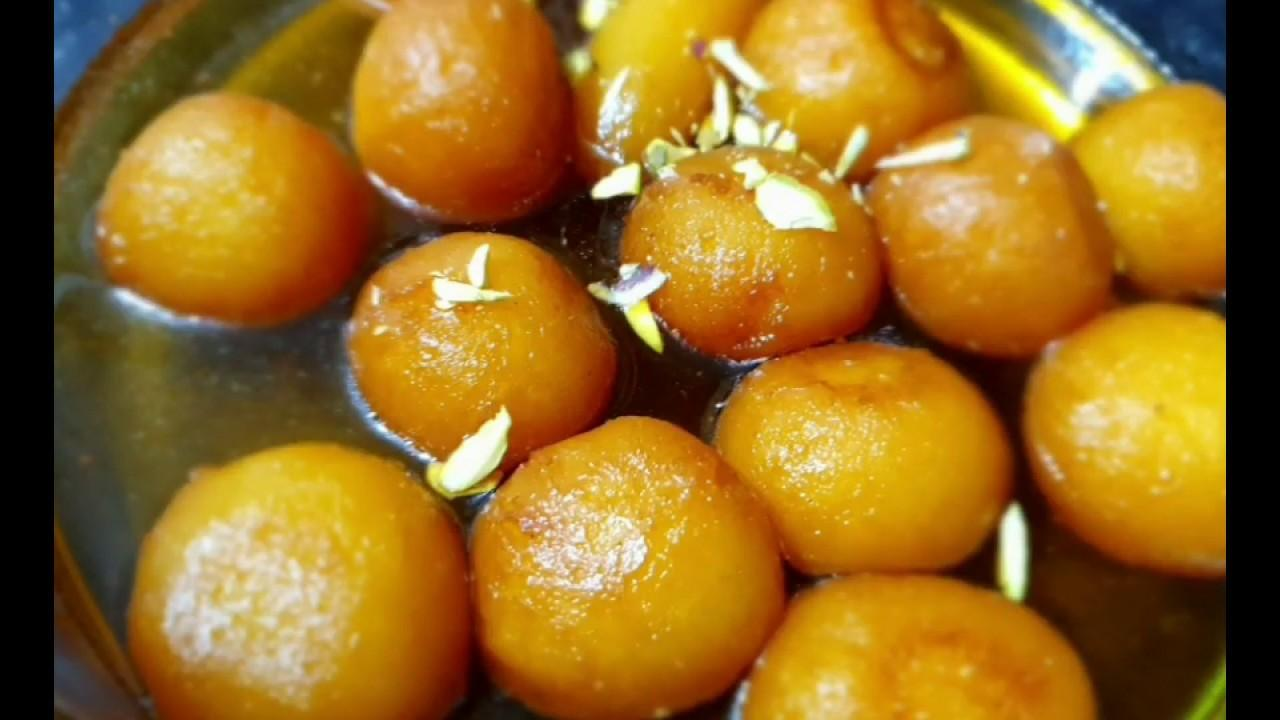GulabJamun: (466, 418, 793, 718), (130, 440, 473, 720), (712, 346, 1017, 576), (97, 96, 381, 331), (1024, 287, 1225, 607), (345, 235, 620, 467), (868, 112, 1107, 359), (624, 137, 879, 360), (726, 573, 1095, 720), (348, 0, 573, 216), (738, 0, 982, 181), (566, 0, 757, 191), (1069, 83, 1227, 305)
